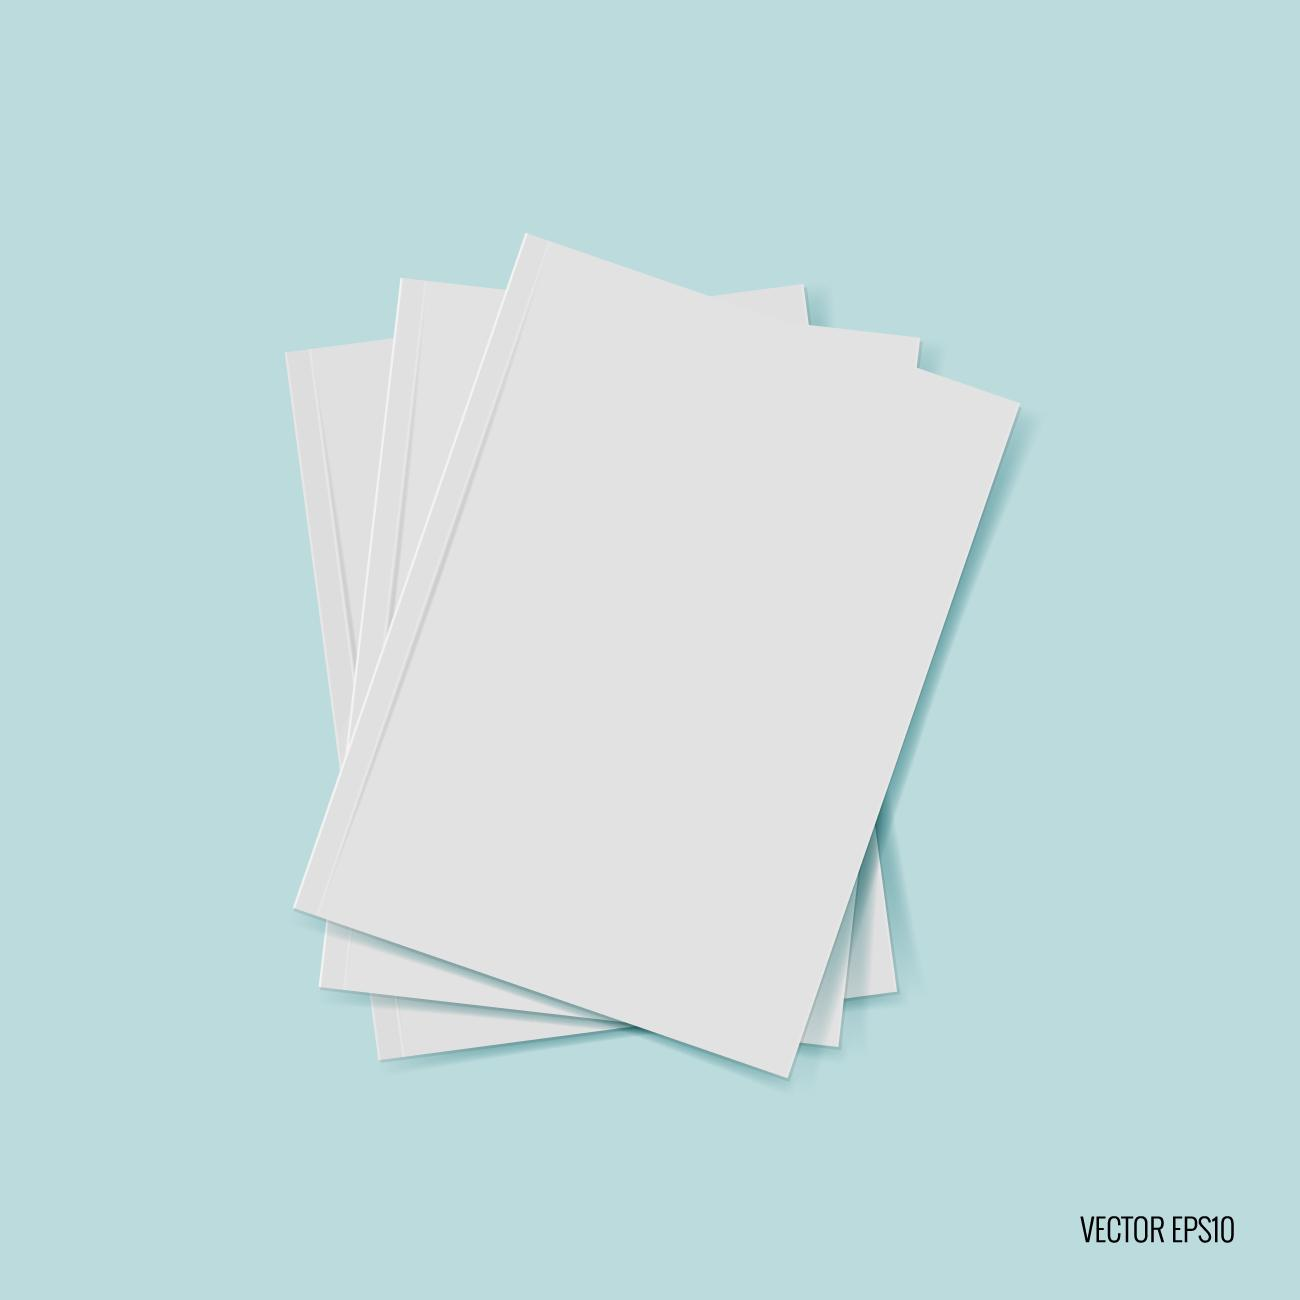plastic: (290, 211, 1027, 1080), (345, 277, 501, 720), (258, 335, 389, 763), (307, 921, 585, 1069), (368, 996, 596, 1076), (840, 849, 894, 996), (802, 932, 850, 1046)
